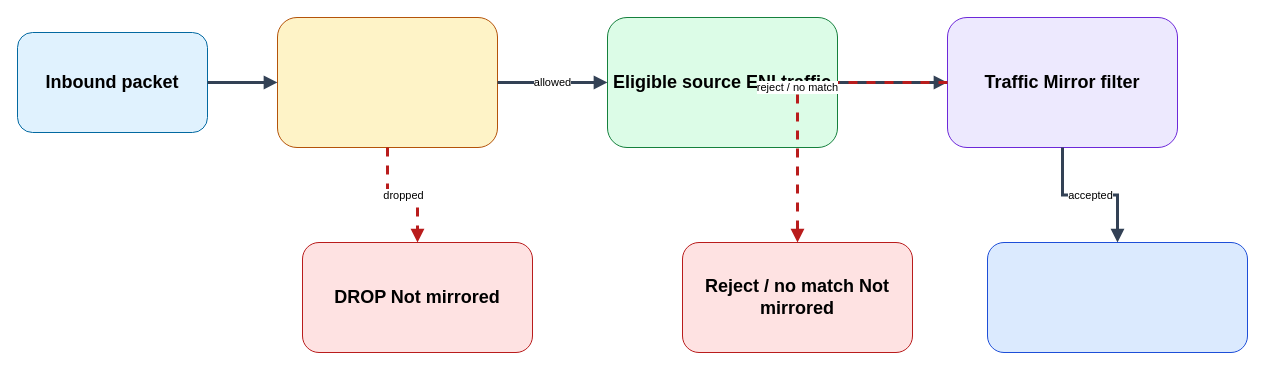
Some shapes in this 1265 by 370 pixel diagram are drawn without their labels. The shapes that lost their labels are listed below. From the top down, each one's box as (x1, y1, x2, y2) in pixels, then its label:
(276, 16, 498, 148): Source VPC policy SG + NACL
(986, 242, 1248, 352): Mirror target Analyzer
